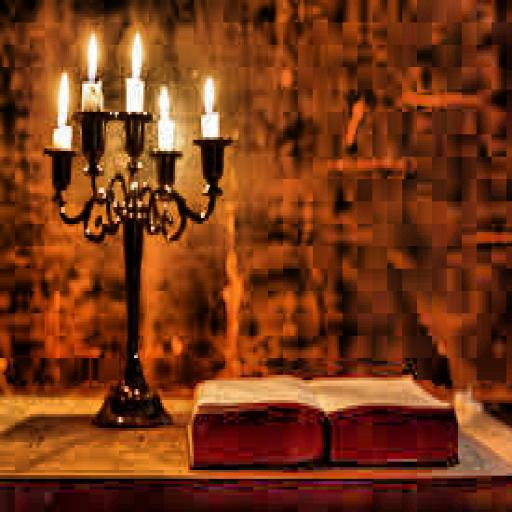fire: (50, 70, 71, 123), (127, 28, 145, 84), (82, 31, 99, 84), (154, 81, 172, 123), (197, 72, 214, 114)
